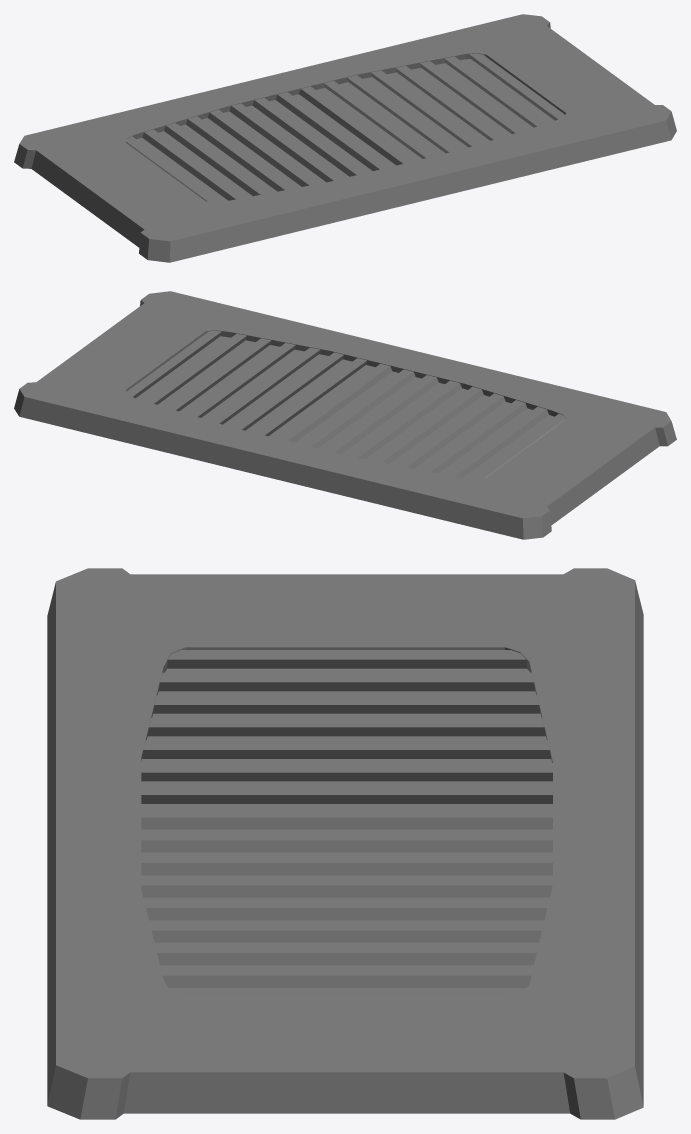
Rendered from q-scifi-mod-prop-vent-big.glb.
The picture shows the model from 3 angles, top to bottom: view 1: azimuth 30°, elevation 25°; view 2: azimuth 150°, elevation 25°; view 3: azimuth 270°, elevation 25°; orthographic projection. The views are drawn at different scales.
Parts seen in each view (by area): view 1: Prop_Vent_Big; view 2: Prop_Vent_Big; view 3: Prop_Vent_Big.
Part boxes in pixels (x1=…): Prop_Vent_Big: x1=14, y1=14, x2=676, y2=262; Prop_Vent_Big: x1=14, y1=291, x2=676, y2=539; Prop_Vent_Big: x1=47, y1=568, x2=643, y2=1119.
Size of the model in its own units: 2 by 0.0688 by 0.9764.
2 materials, 2 textured.
